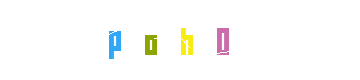0: (182, 0, 262, 80)
H: (140, 0, 220, 80)
O: (129, 0, 209, 80)
P: (74, 0, 154, 80)
